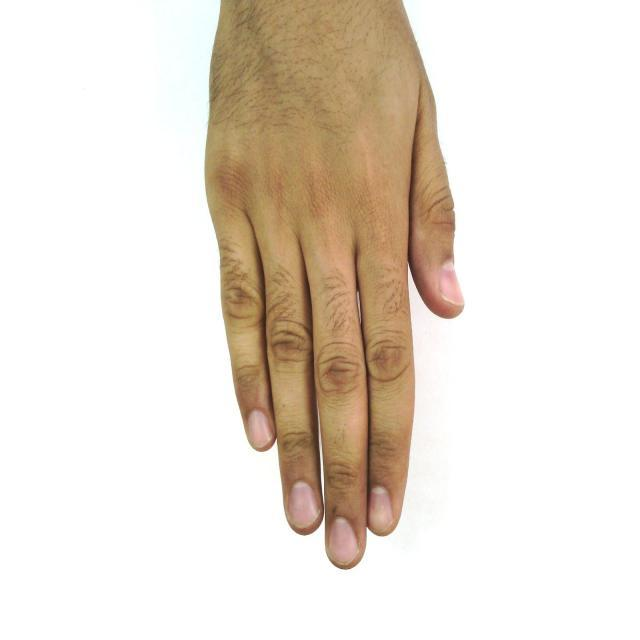Fingernail: (329, 518, 358, 565), (289, 482, 318, 526), (369, 487, 393, 533), (441, 261, 464, 305), (249, 411, 273, 447)
